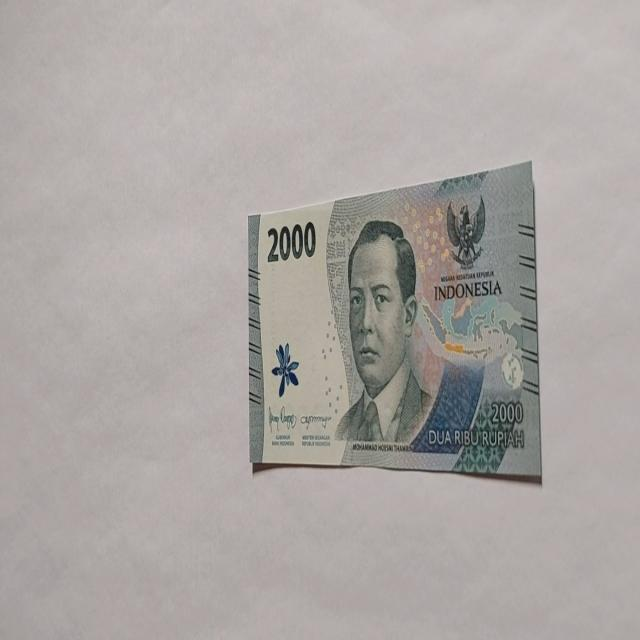dua ribu rupiah: (248, 159, 542, 479), (334, 218, 434, 450)
